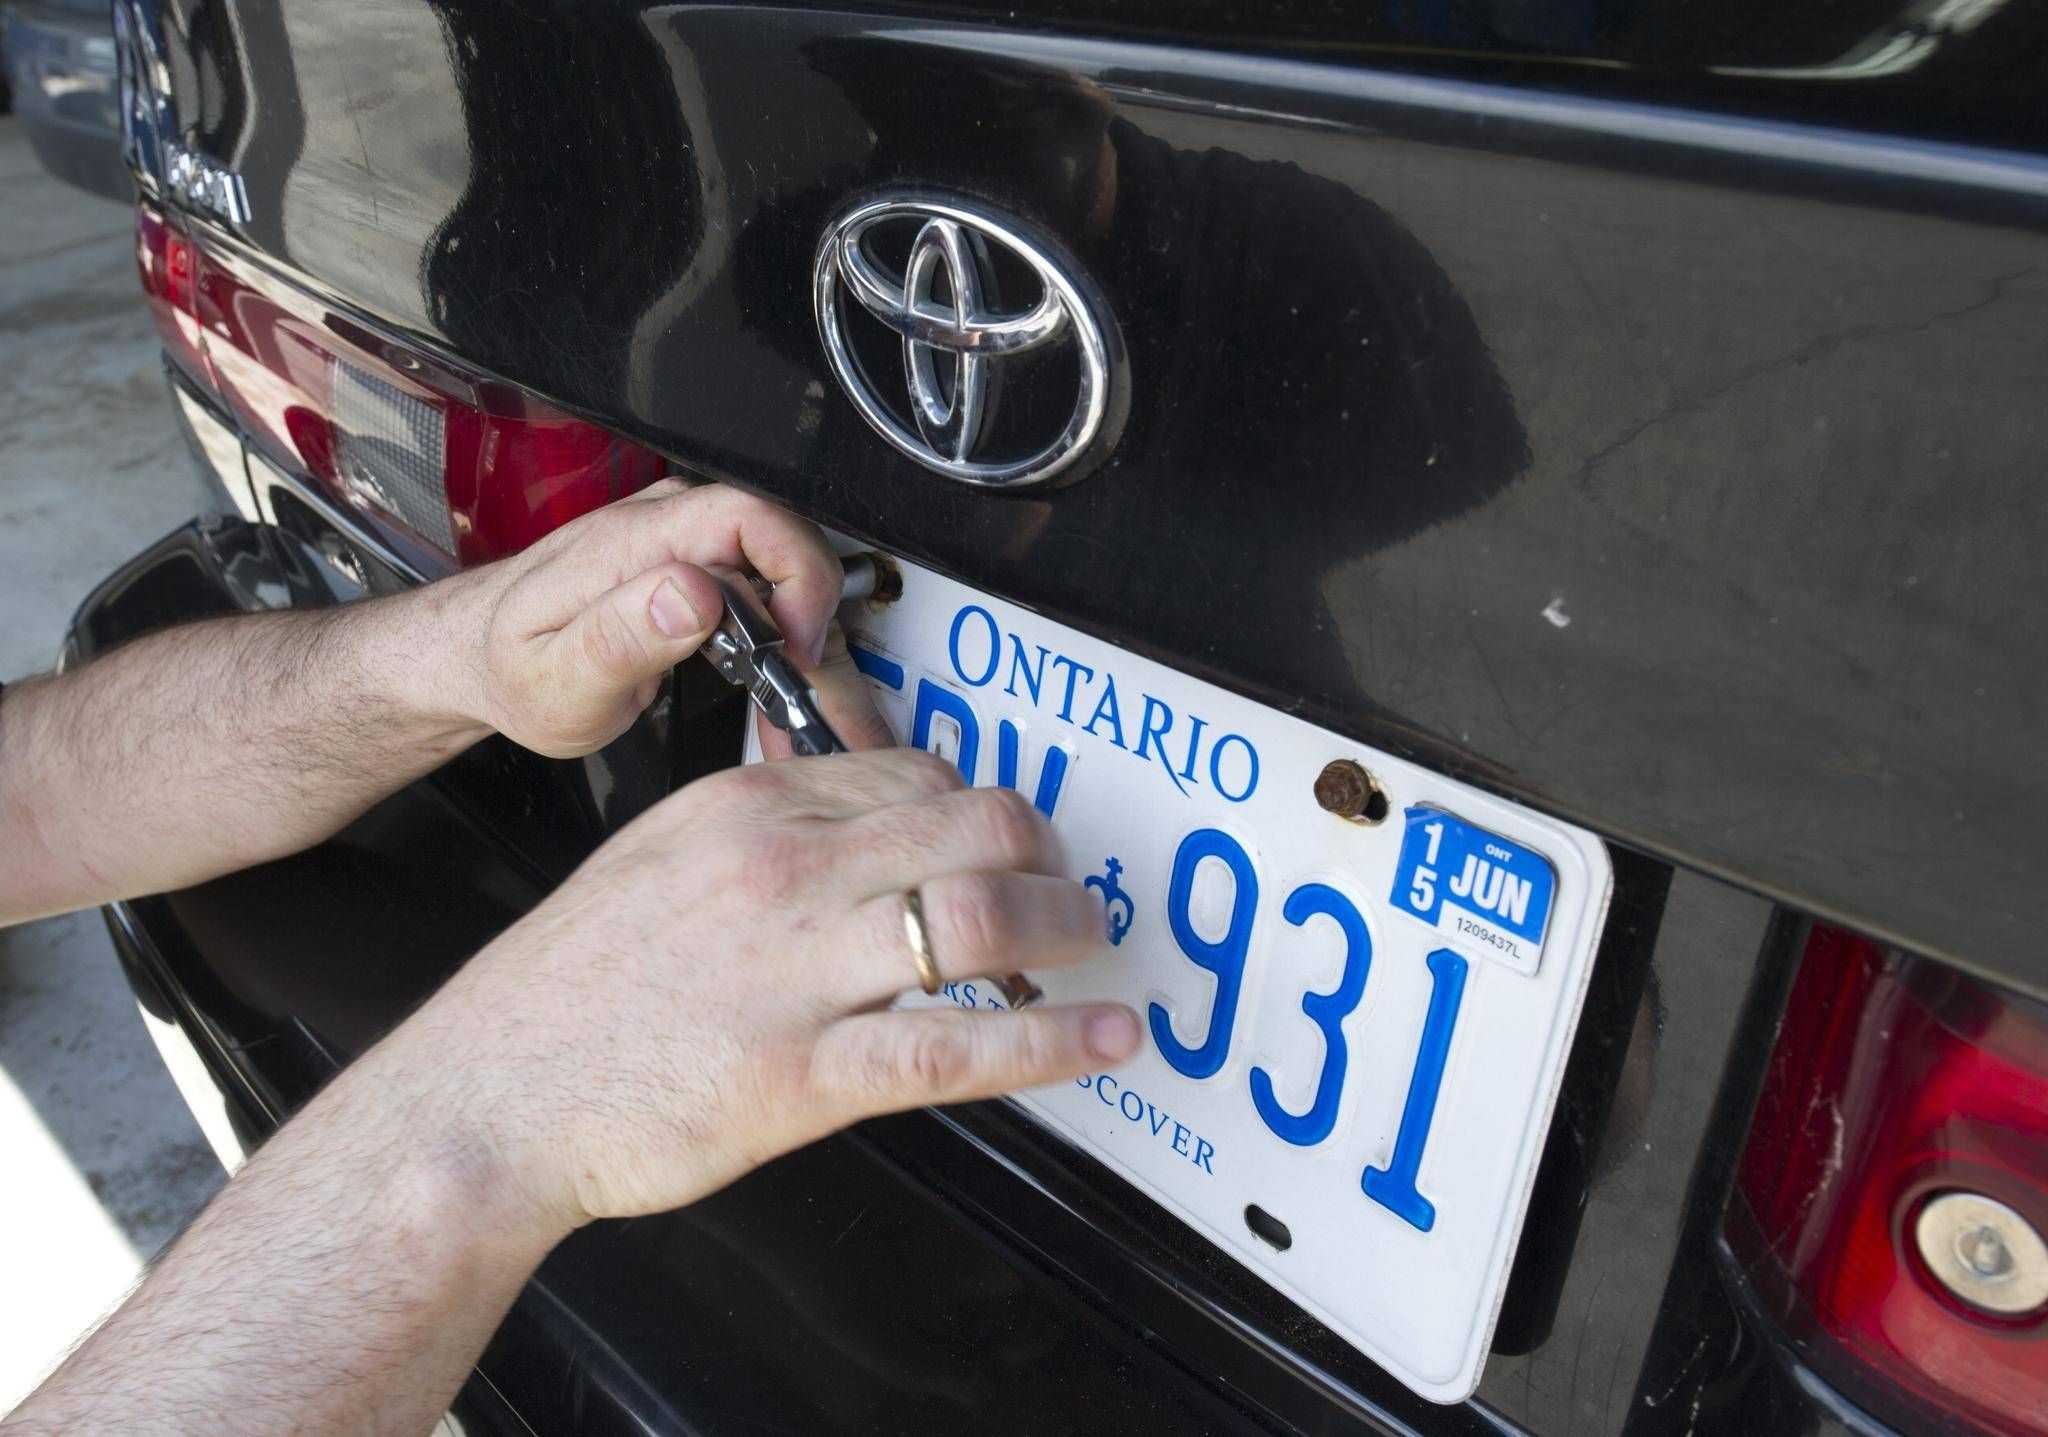license plate: (720, 491, 1470, 1416)
